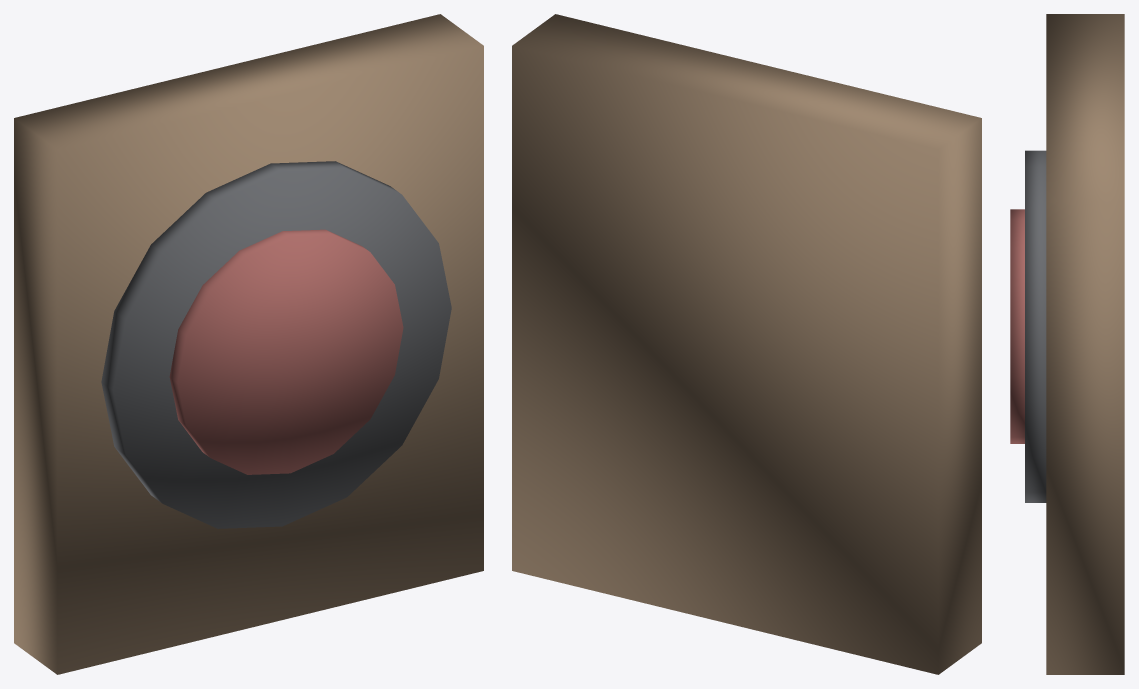
Rendered from dartboard_cabinet.glb.
The picture shows the model from 3 angles, left to right: view 1: azimuth 30°, elevation 25°; view 2: azimuth 150°, elevation 25°; view 3: azimuth 270°, elevation 25°; orthographic projection. The views are drawn at different scales.
Parts seen in each view (by area): view 1: world; view 2: world; view 3: world.
Part boxes in pixels (box(x1,y1,x2,y2)): world: box(14, 14, 483, 674); world: box(512, 14, 981, 674); world: box(1010, 14, 1124, 674).
Bounding box in the file's own units: 0.68 × 0.8 × 0.175.
